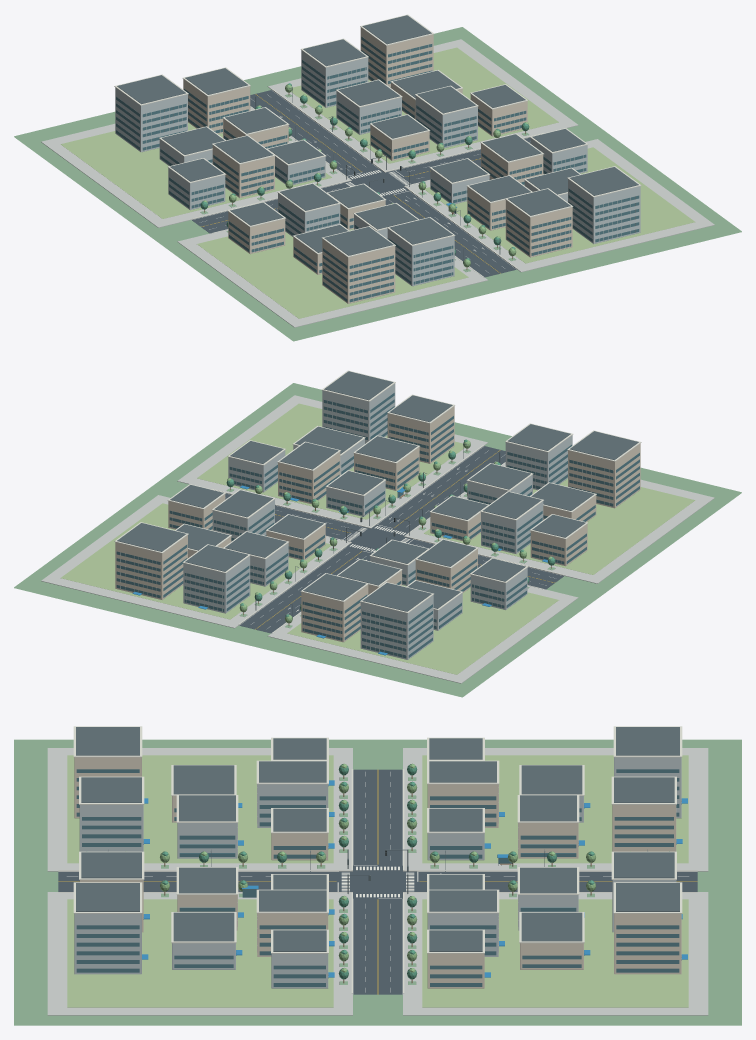
Rendered from city-block.glb.
The picture shows the model from 3 angles, top to bottom: view 1: azimuth 30°, elevation 25°; view 2: azimuth 150°, elevation 25°; view 3: azimuth 270°, elevation 25°; orthographic projection. The views are drawn at different scales.
Visible parts, largest first — view 1: City_Street_furniture_charcoal, City_Planter_moss, City_Ground_sage, City_Building_warm_stone, City_Building_cool_stone, City_Windows_petrol, City_Sidewalk_limestone, City_Curb_cream, City_Asphalt_graphite, City_Trees_lime, City_Trees_eucalyptus, City_Marking_warm_white; view 2: City_Street_furniture_charcoal, City_Planter_moss, City_Ground_sage, City_Building_cool_stone, City_Building_warm_stone, City_Windows_petrol, City_Sidewalk_limestone, City_Curb_cream, City_Asphalt_graphite, City_Trees_lime, City_Trees_eucalyptus, City_Marking_warm_white; view 3: City_Planter_moss, City_Street_furniture_charcoal, City_Ground_sage, City_Sidewalk_limestone, City_Building_cool_stone, City_Building_warm_stone, City_Asphalt_graphite, City_Windows_petrol, City_Curb_cream, City_Trees_lime, City_Trees_eucalyptus, City_Marking_warm_white (+2 smaller).
Boxes of the visible parts, bbox=[...] form: City_Street_furniture_charcoal: bbox=[117, 15, 638, 263]; City_Planter_moss: bbox=[60, 47, 695, 318]; City_Ground_sage: bbox=[14, 27, 741, 341]; City_Building_warm_stone: bbox=[183, 27, 572, 303]; City_Building_cool_stone: bbox=[115, 50, 640, 286]; City_Windows_petrol: bbox=[116, 37, 639, 302]; City_Sidewalk_limestone: bbox=[41, 39, 714, 327]; City_Curb_cream: bbox=[114, 14, 641, 302]; City_Asphalt_graphite: bbox=[192, 90, 530, 277]; City_Trees_lime: bbox=[203, 84, 528, 267]; City_Trees_eucalyptus: bbox=[200, 83, 529, 260]; City_Marking_warm_white: bbox=[194, 90, 529, 272]; City_Street_furniture_charcoal: bbox=[117, 371, 638, 619]; City_Planter_moss: bbox=[60, 403, 695, 674]; City_Ground_sage: bbox=[14, 383, 741, 697]; City_Building_cool_stone: bbox=[183, 383, 572, 659]; City_Building_warm_stone: bbox=[115, 406, 640, 642]; City_Windows_petrol: bbox=[116, 393, 639, 658]; City_Sidewalk_limestone: bbox=[41, 395, 714, 683]; City_Curb_cream: bbox=[114, 370, 641, 658]; City_Asphalt_graphite: bbox=[225, 446, 563, 633]; City_Trees_lime: bbox=[227, 440, 551, 623]; City_Trees_eucalyptus: bbox=[226, 439, 555, 617]; City_Marking_warm_white: bbox=[226, 446, 561, 628]; City_Planter_moss: bbox=[67, 755, 688, 1007]; City_Street_furniture_charcoal: bbox=[76, 727, 679, 951]; City_Ground_sage: bbox=[14, 739, 741, 1025]; City_Sidewalk_limestone: bbox=[47, 748, 708, 1015]; City_Building_cool_stone: bbox=[74, 757, 681, 988]; City_Building_warm_stone: bbox=[74, 757, 681, 988]; City_Asphalt_graphite: bbox=[58, 769, 697, 994]; City_Windows_petrol: bbox=[76, 769, 681, 986]; City_Curb_cream: bbox=[58, 726, 697, 993]; City_Trees_lime: bbox=[126, 763, 630, 972]; City_Trees_eucalyptus: bbox=[87, 764, 669, 979]; City_Marking_warm_white: bbox=[58, 769, 697, 994].
Bounding box in the file's own units: 190 × 19.9 × 205.
